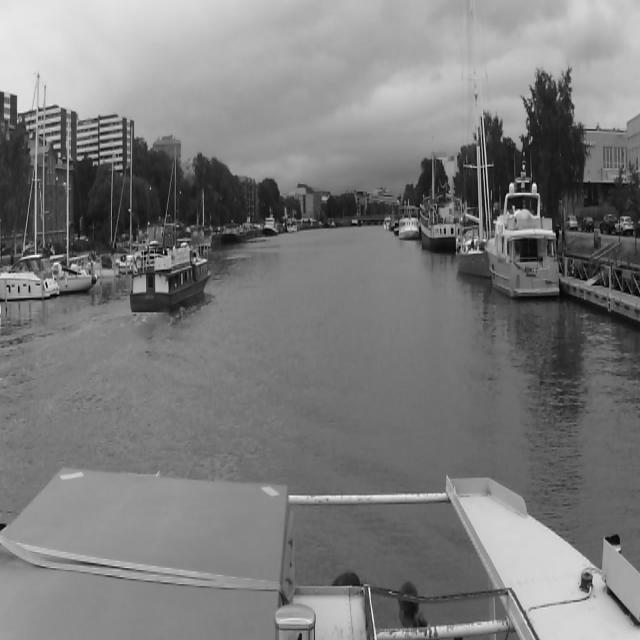ship: (25, 70, 97, 284), (489, 156, 562, 306), (454, 0, 491, 284), (130, 244, 210, 320), (420, 155, 454, 257), (0, 252, 58, 306), (398, 205, 418, 242), (261, 204, 279, 236), (287, 215, 296, 229)
